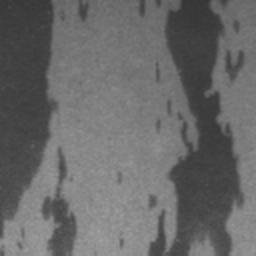Red iron sheet: (145, 0, 246, 256), (0, 0, 77, 256), (138, 0, 161, 18), (78, 0, 88, 22), (17, 229, 26, 251), (115, 172, 124, 184), (155, 119, 161, 134), (118, 237, 123, 250)
